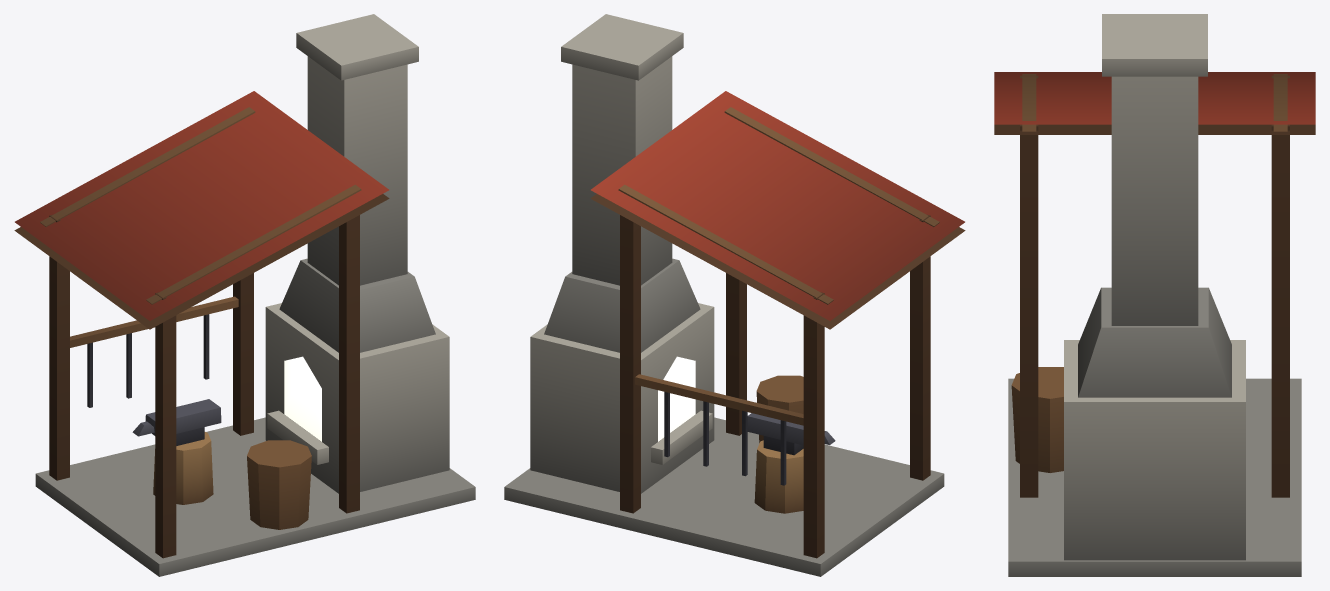
The model's file is b_forge.glb.
The picture shows the model from 3 angles, left to right: view 1: azimuth 30°, elevation 25°; view 2: azimuth 150°, elevation 25°; view 3: azimuth 270°, elevation 25°; orthographic projection. The views are drawn at different scales.
Parts seen in each view (by area): view 1: stone, roof, wood, plain, glow; view 2: stone, roof, wood, plain, glow; view 3: stone, wood, roof.
Part boxes in pixels (bbox=[...]): stone: bbox=[35, 14, 475, 576]; roof: bbox=[15, 91, 388, 320]; wood: bbox=[14, 107, 389, 558]; plain: bbox=[87, 314, 221, 445]; glow: bbox=[284, 356, 321, 441]; stone: bbox=[504, 14, 944, 576]; roof: bbox=[591, 91, 964, 320]; wood: bbox=[590, 107, 965, 558]; plain: bbox=[664, 392, 835, 485]; glow: bbox=[658, 356, 695, 441]; stone: bbox=[1008, 14, 1301, 576]; wood: bbox=[994, 74, 1315, 497]; roof: bbox=[994, 72, 1315, 124].
Size of the model in its own units: 3.25 by 4.01 by 2.3.
